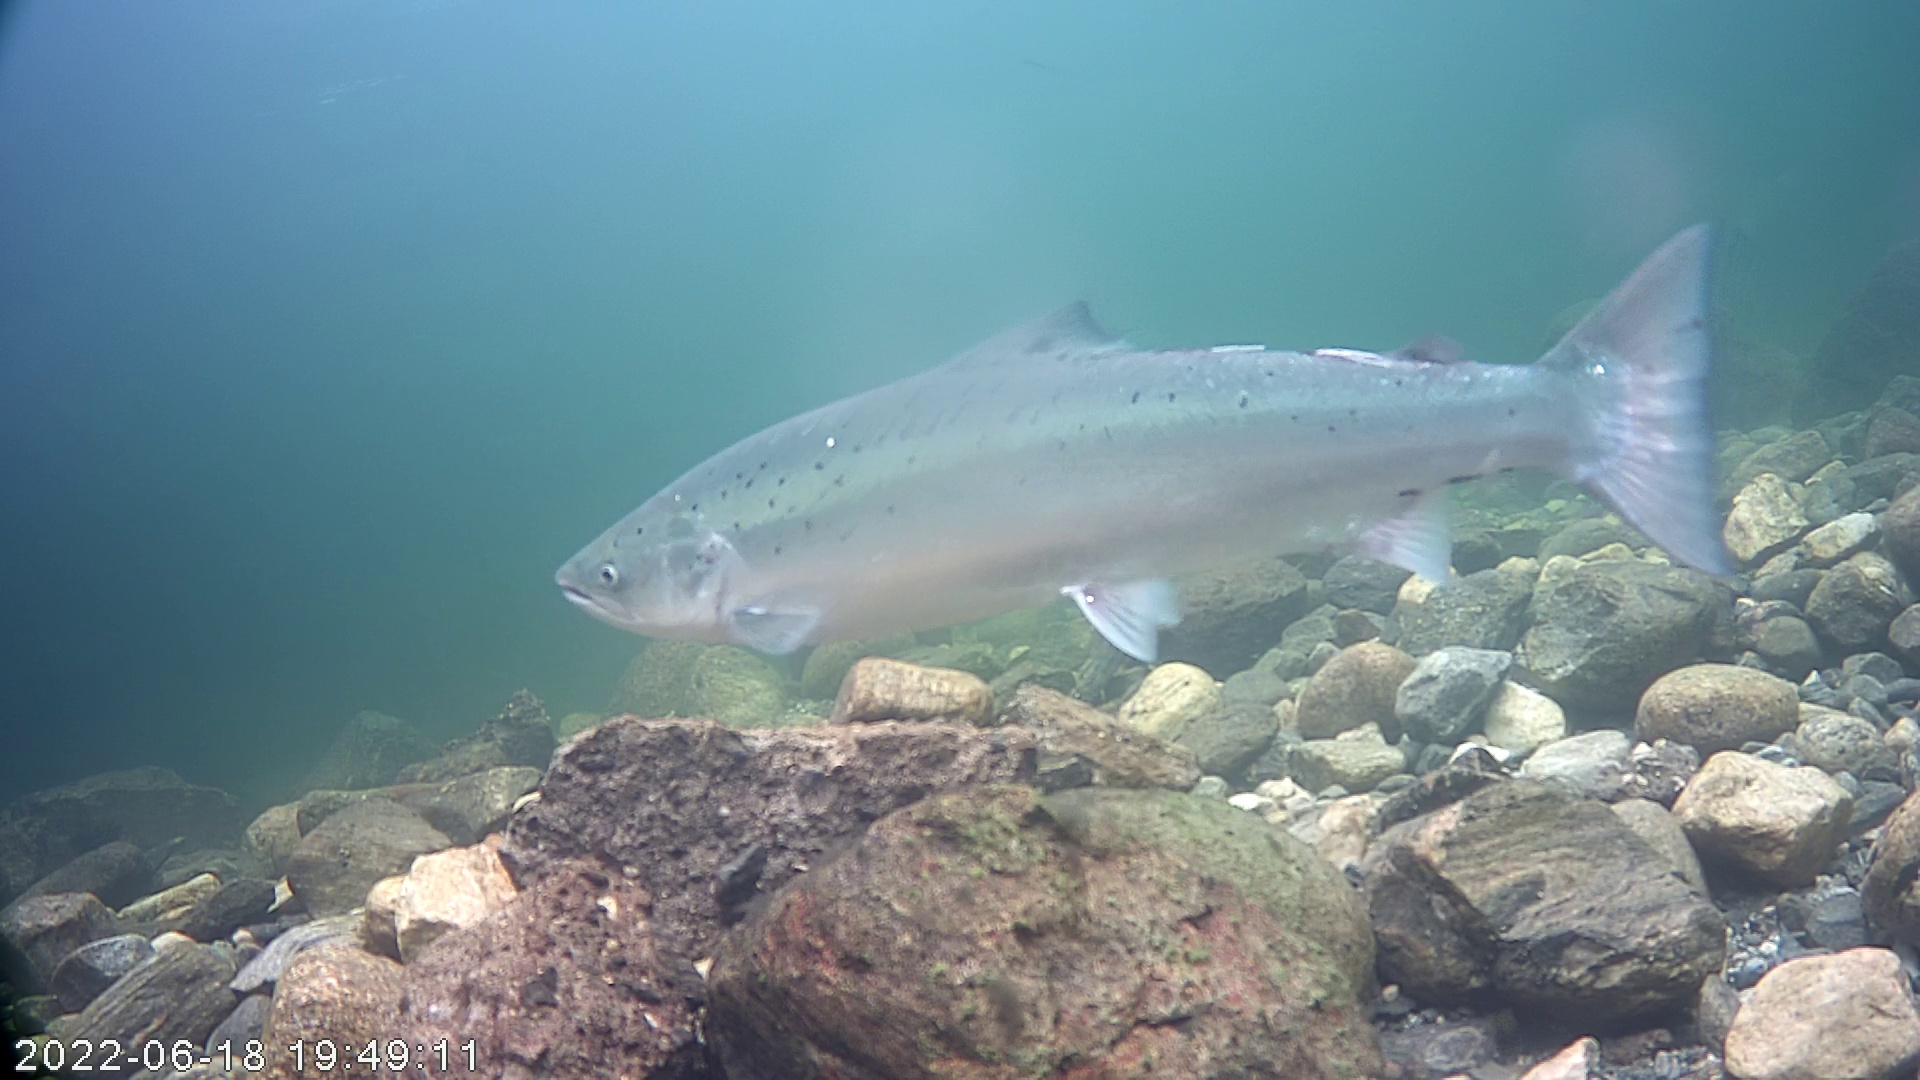salmon: (554, 214, 1729, 665)
